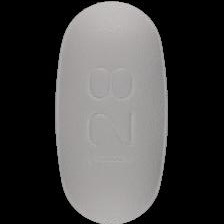55111-128: (0, 0, 224, 224)
